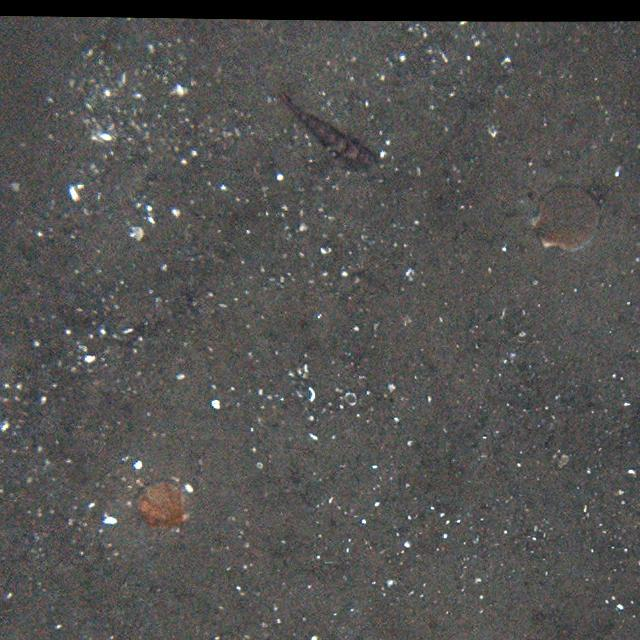roundfish: (282, 92, 380, 180)
